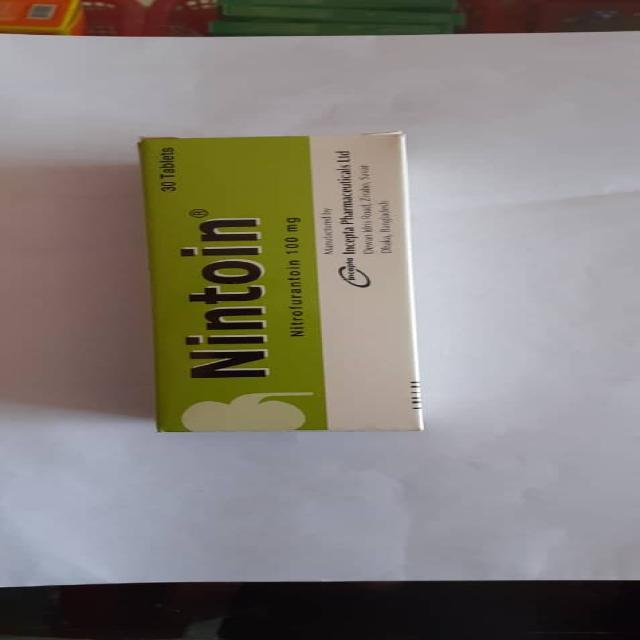drug-name: (178, 216, 270, 382)
